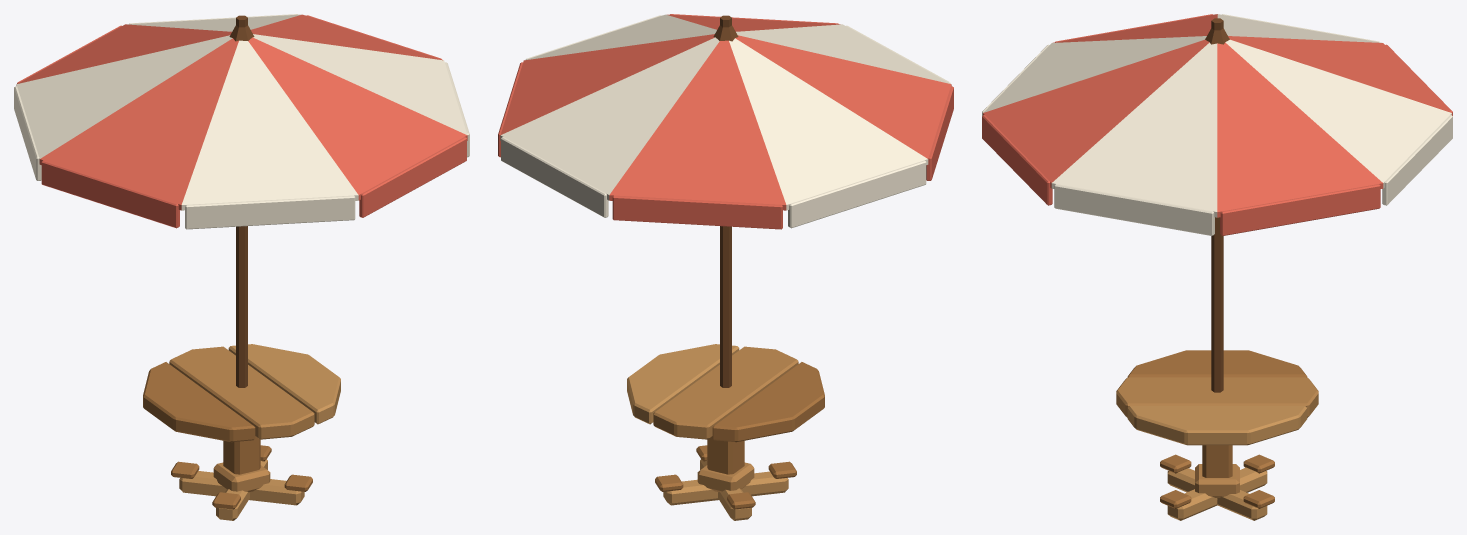
File: cafe_umbrella_table.glb
3 renders of one model, left to right at view 1: azimuth 30°, elevation 25°; view 2: azimuth 150°, elevation 25°; view 3: azimuth 270°, elevation 25°, orthographic.
Visible parts, largest first — view 1: cafe_umbrella_table; view 2: cafe_umbrella_table; view 3: cafe_umbrella_table.
Part boxes in pixels (x1,y1,x2,y2): cafe_umbrella_table: (14, 14, 469, 520); cafe_umbrella_table: (498, 14, 953, 520); cafe_umbrella_table: (982, 14, 1452, 520).
Size of the model in its own units: 2.31 by 2.6 by 2.31.
